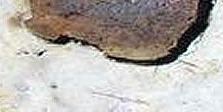Corrosion: (23, 1, 217, 66)
